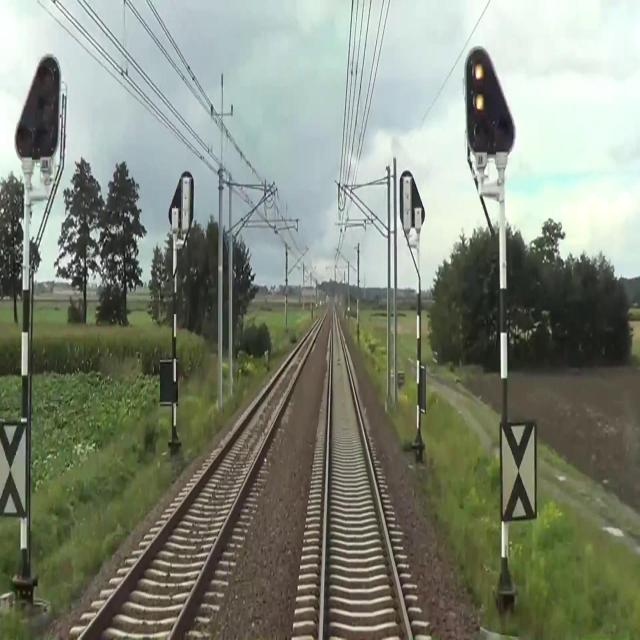rail-track: (80, 314, 324, 639), (323, 309, 407, 639)
